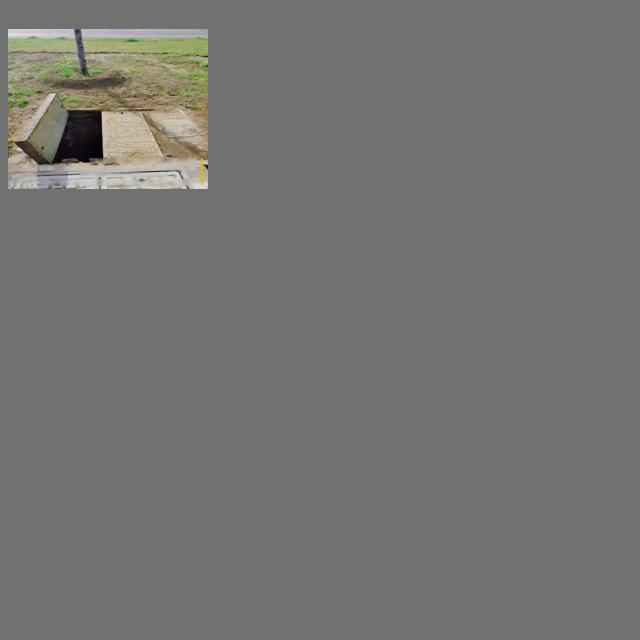uncovered: (11, 94, 207, 169)
